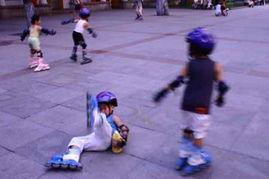Fall-Detected: (43, 83, 133, 172)
